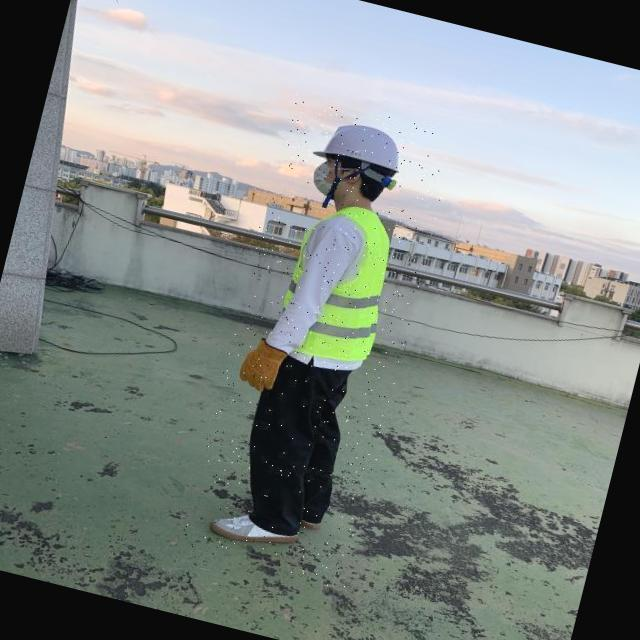boots: (208, 505, 302, 555)
gloves: (226, 292, 320, 422)
helmet: (310, 114, 407, 176)
vest: (271, 194, 404, 370)
